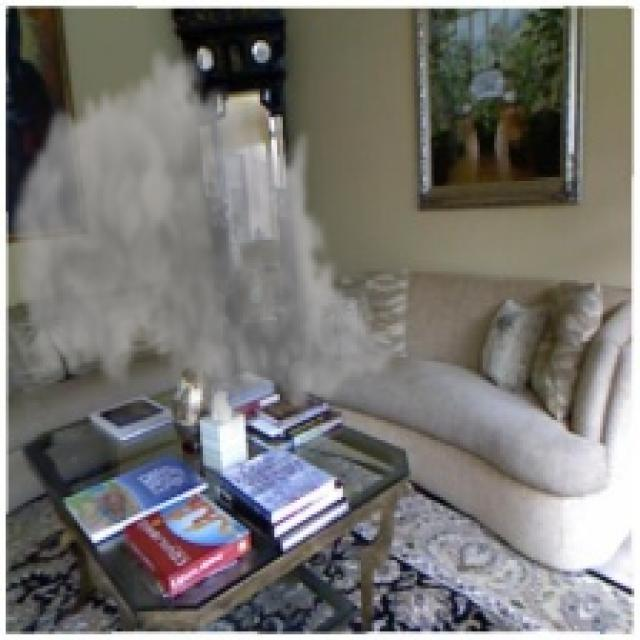smoke: (6, 40, 397, 440)
